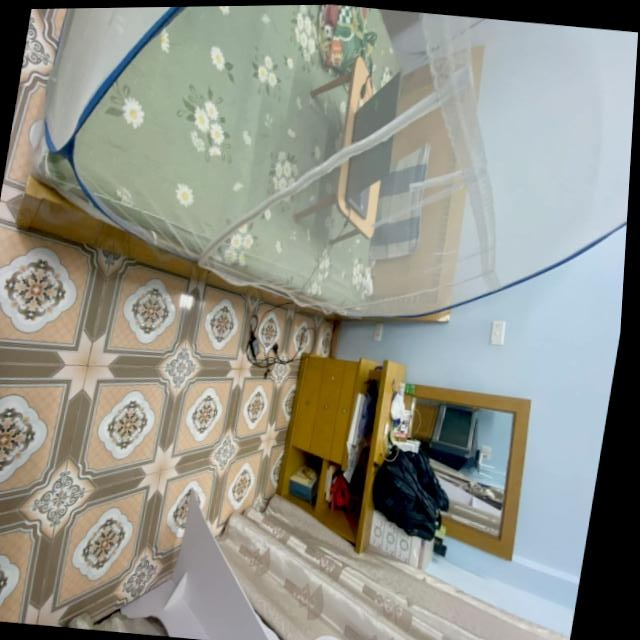outlet: (373, 322, 384, 341)
